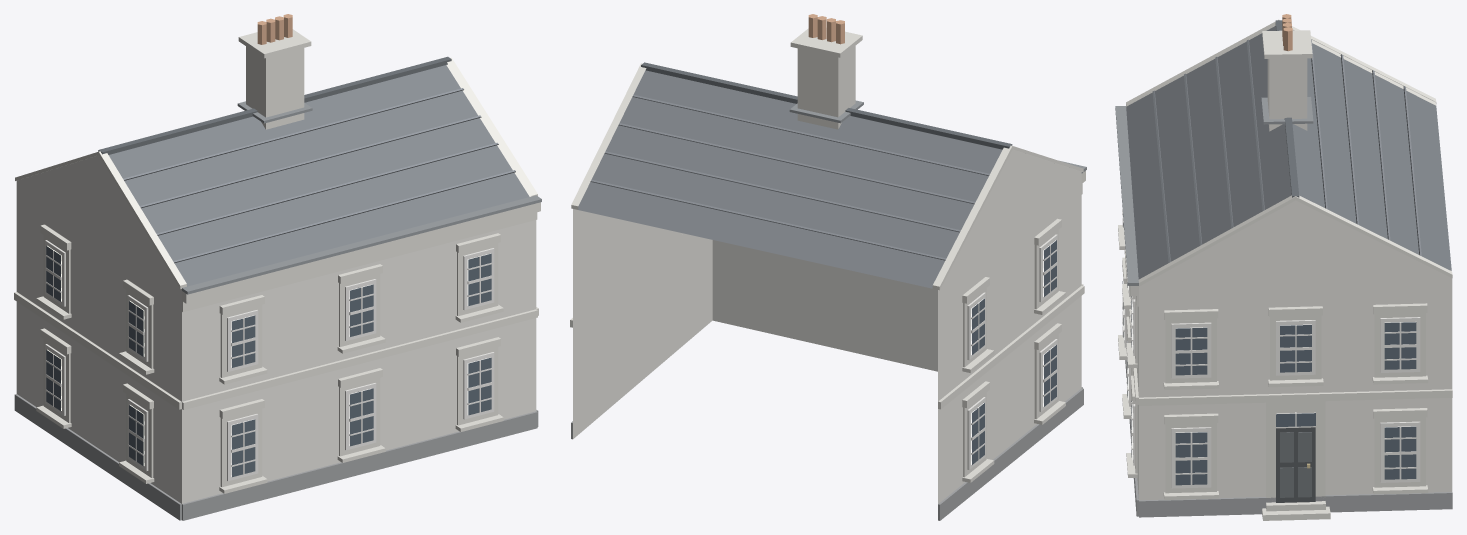
The picture shows the model from 3 angles, left to right: view 1: azimuth 30°, elevation 25°; view 2: azimuth 150°, elevation 25°; view 3: azimuth 270°, elevation 25°; orthographic projection.
Visible parts, largest first — view 1: harl, slate, string, plinth, frame, slate_lt, chim_render, lead, slate_dk, window_glass_009, window_glass_011, window_glass_007 (+8 smaller); view 2: harl, slate, string, slate_lt, chim_render, slate_dk, plinth, frame, pot, window_glass_013, window_glass_015, window_glass_014; view 3: harl, slate, string, frame, plinth, slate_lt, lead, chim_render, door_dark_p, window_glass_001, window_glass_005, window_glass_004 (+5 smaller).
Part boxes in pixels (x1,y1,x2,y2): harl: (16, 155, 536, 503); slate: (108, 65, 529, 286); string: (14, 29, 540, 493); plinth: (14, 394, 538, 520); frame: (45, 240, 494, 481); slate_lt: (123, 88, 515, 263); chim_render: (246, 46, 304, 129); lead: (182, 101, 541, 294); slate_dk: (98, 56, 451, 154); window_glass_009: (349, 388, 373, 446); window_glass_011: (467, 357, 491, 415); window_glass_007: (231, 419, 255, 477); harl: (573, 149, 1081, 503); slate: (578, 70, 1002, 288); string: (570, 28, 1085, 482); slate_lt: (590, 94, 989, 260); chim_render: (797, 46, 855, 129); slate_dk: (641, 62, 1012, 149); plinth: (571, 387, 1083, 520); frame: (967, 234, 1057, 469); pot: (808, 14, 844, 44); window_glass_013: (971, 402, 984, 464); window_glass_015: (1043, 345, 1056, 406); window_glass_014: (971, 298, 984, 354); harl: (1129, 200, 1452, 500); slate: (1126, 26, 1451, 279); string: (1118, 19, 1452, 520); frame: (1122, 210, 1420, 488); plinth: (1125, 360, 1452, 517); slate_lt: (1152, 39, 1421, 262); lead: (1115, 96, 1313, 285); chim_render: (1267, 58, 1307, 131); door_dark_p: (1280, 432, 1311, 497); window_glass_001: (1175, 432, 1207, 485); window_glass_005: (1384, 426, 1416, 479); window_glass_004: (1280, 324, 1311, 372).
Size of the model in its own units: 11.31 by 11.15 by 8.48.
